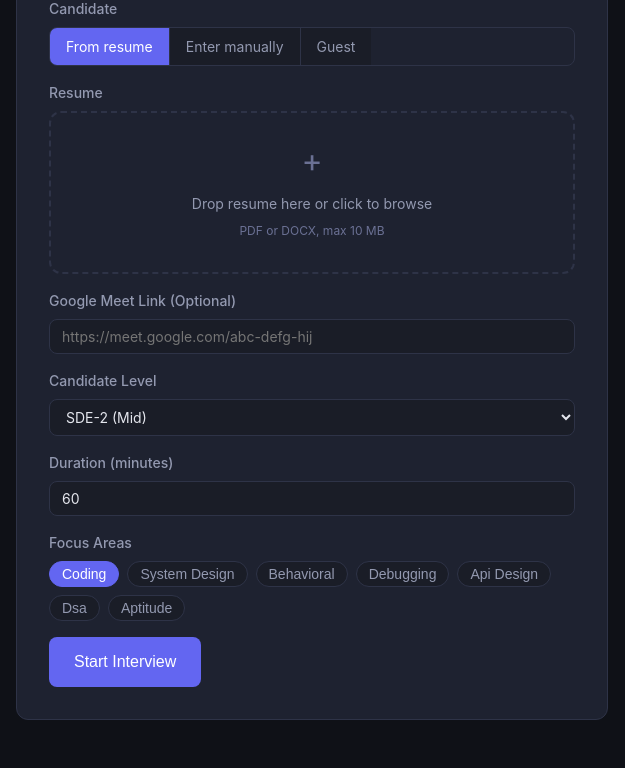
Test case: new interview › asks for a resume before starting in resume mode
The width and height of the screenshot is (625, 768).
(page scrolled)
What coordinates should you click on to do the following:
click the button "Start Interview"
I would click on:
 (125, 662)
Its box is [49,637,201,687].
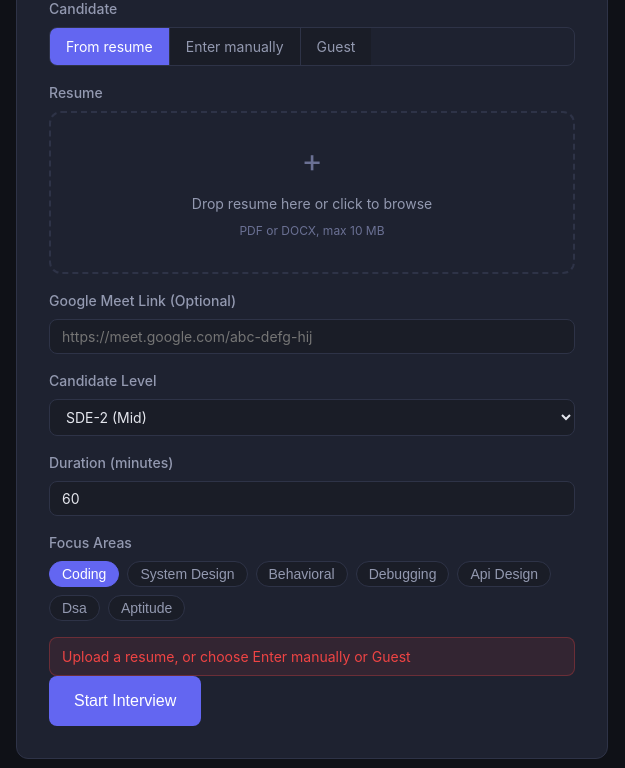
Expected: the message shows "Upload a resume", [62,648,411,665]
